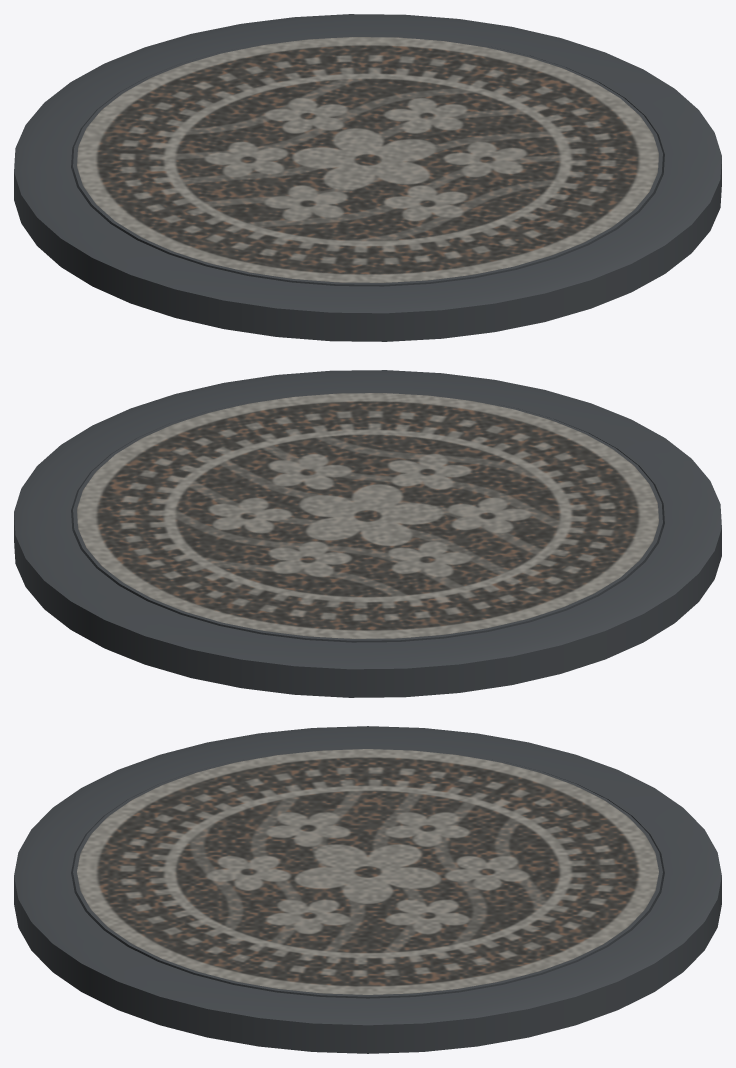
File: manhole_cover.fbx
The picture shows the model from 3 angles, top to bottom: view 1: azimuth 30°, elevation 25°; view 2: azimuth 150°, elevation 25°; view 3: azimuth 270°, elevation 25°; orthographic projection.
Visible parts, largest first — view 1: manhole_cover; view 2: manhole_cover; view 3: manhole_cover.
Boxes of the visible parts, x1,y1,x2,y2 form: manhole_cover: [14, 14, 721, 341]; manhole_cover: [14, 370, 721, 697]; manhole_cover: [14, 726, 721, 1053].
Size of the model in its own units: 0.72 by 0.0362 by 0.72.
2 materials, 1 textured.
